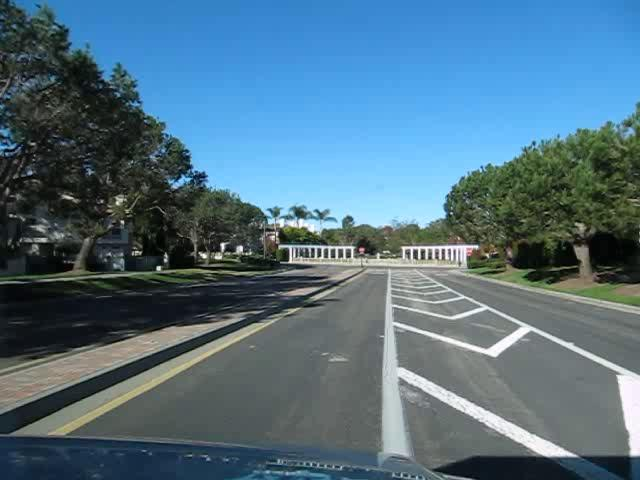stop: (465, 247, 473, 255)
